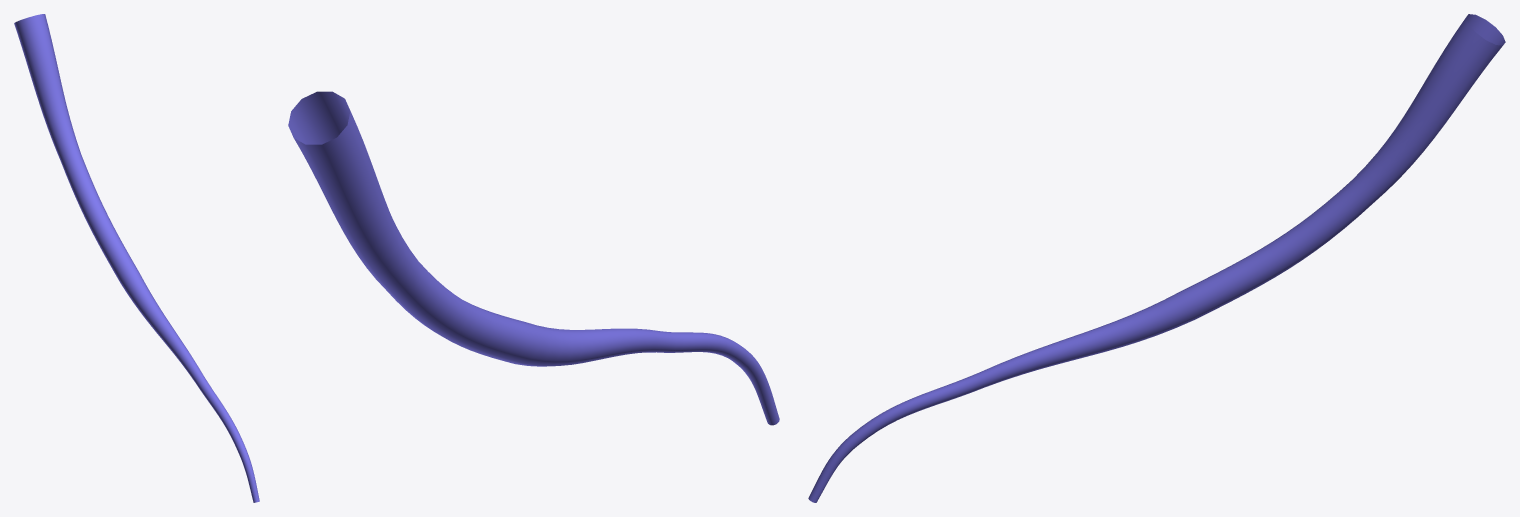
The model's file is Occipital_sinus_001.glb.
3 renders of one model, left to right at view 1: azimuth 30°, elevation 25°; view 2: azimuth 150°, elevation 25°; view 3: azimuth 270°, elevation 25°, orthographic. The views are drawn at different scales.
Parts seen in each view (by area): view 1: Occiptal_sinus.001_BezierCurve.469; view 2: Occiptal_sinus.001_BezierCurve.469; view 3: Occiptal_sinus.001_BezierCurve.469.
Part boxes in pixels (box(x1,y1,x2,y2)): Occiptal_sinus.001_BezierCurve.469: box(14, 14, 259, 502); Occiptal_sinus.001_BezierCurve.469: box(288, 91, 779, 425); Occiptal_sinus.001_BezierCurve.469: box(808, 14, 1505, 502).
Size of the model in its own units: 0.003 by 0.0332 by 0.0433.
